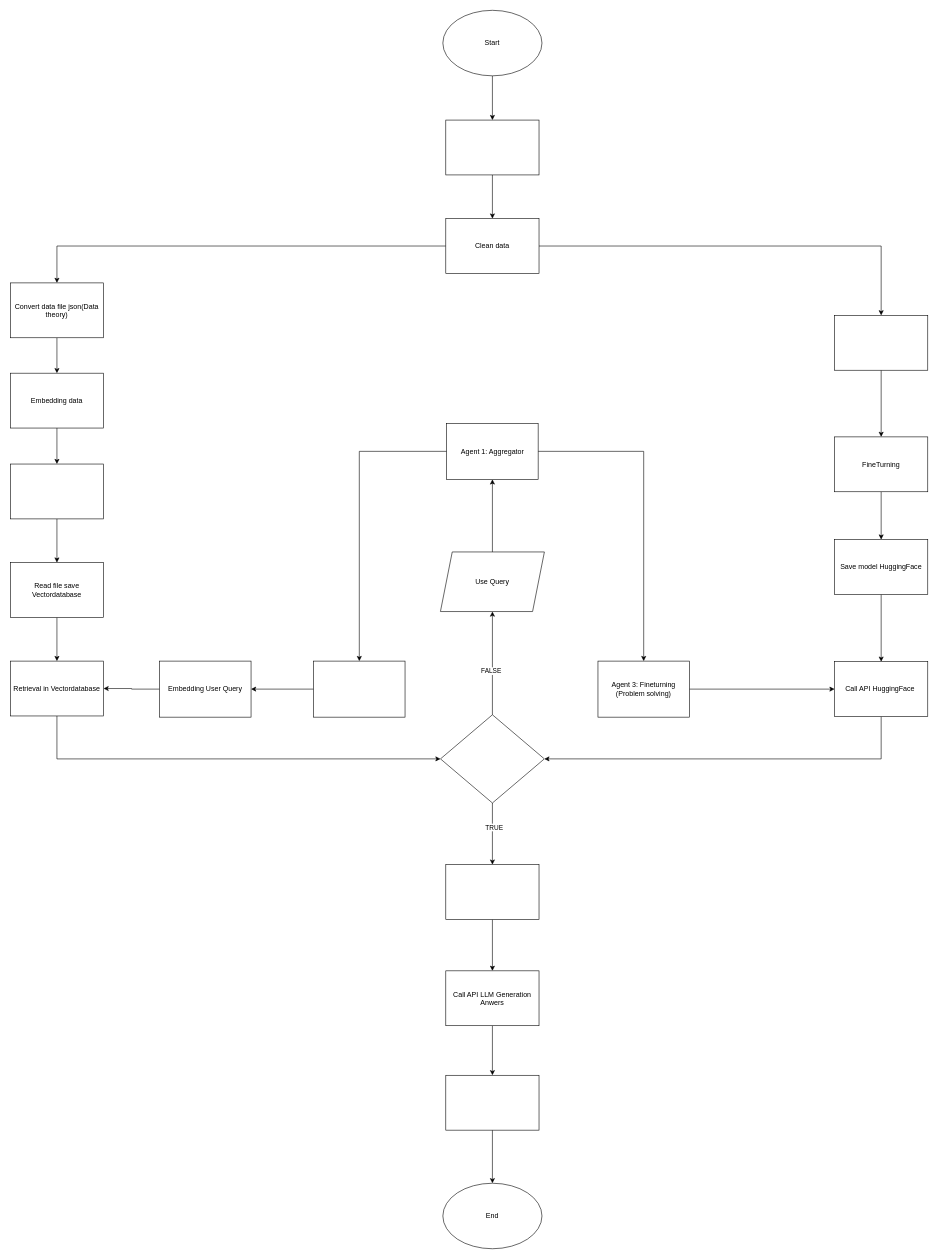
Image size: 938x1259. Some labels were removed from this diagram. The box of each missing label's shape, as (x1, y1, x2, y2) in pixels:
Agent 2: RAG with Langchain (Knowledge Retrieval): (313, 661, 405, 717)
Agent 4: Summary of result from the 2 Agents above: (445, 864, 539, 920)
Check Use Query: (440, 714, 544, 803)
Convert file json (data practice): (834, 315, 928, 370)
Craw Data Physic: (445, 119, 539, 175)
print Anwers: (445, 1075, 539, 1130)
Save VectorDB: (10, 463, 104, 519)
